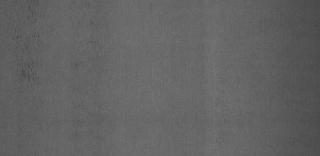silk spot: (16, 17, 36, 77), (69, 24, 101, 60)
